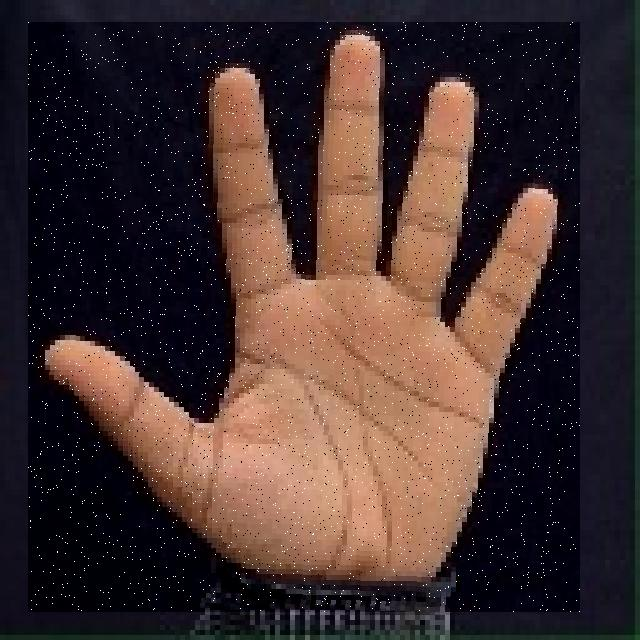Yes: (28, 22, 580, 612)
